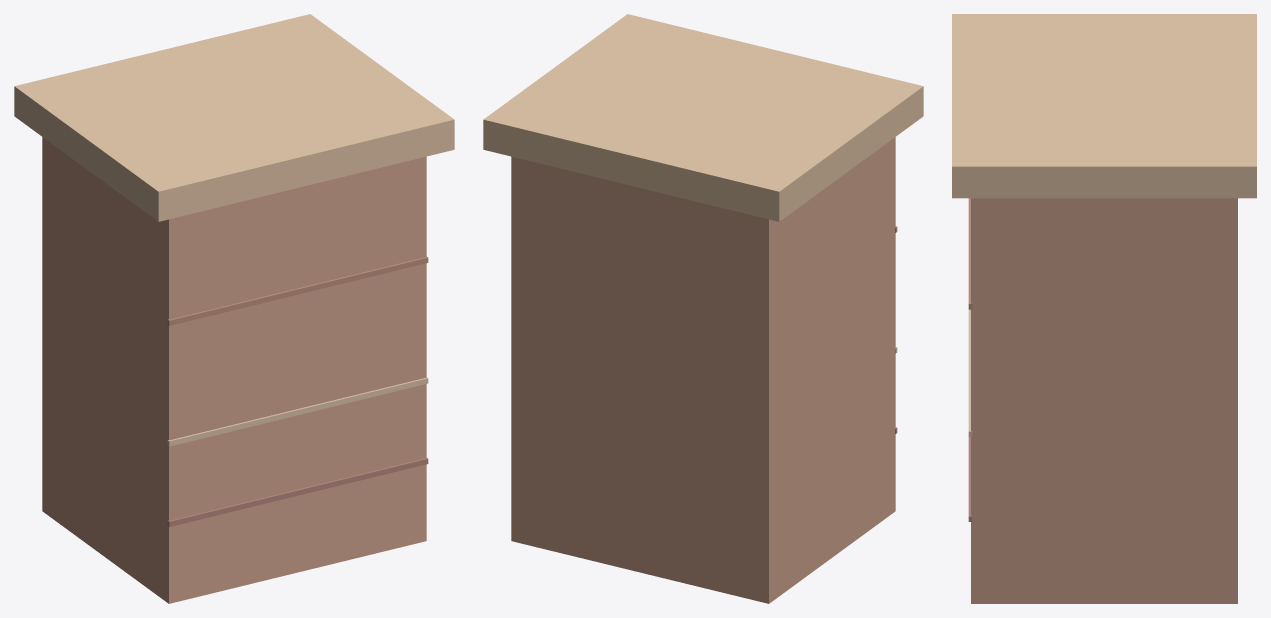
File: mesa_lejana.glb
3 views of the same model, side by side, from view 1: azimuth 30°, elevation 25°; view 2: azimuth 150°, elevation 25°; view 3: azimuth 270°, elevation 25° (orthographic). The views are drawn at different scales.
Parts seen in each view (by area): view 1: mesa_lejana; view 2: mesa_lejana; view 3: mesa_lejana.
Part boxes in pixels (<box>): mesa_lejana: <box>14,14,454,603</box>; mesa_lejana: <box>483,14,923,603</box>; mesa_lejana: <box>952,14,1256,603</box>.
Size of the model in its own units: 7.7 by 10.52 by 6.5.
